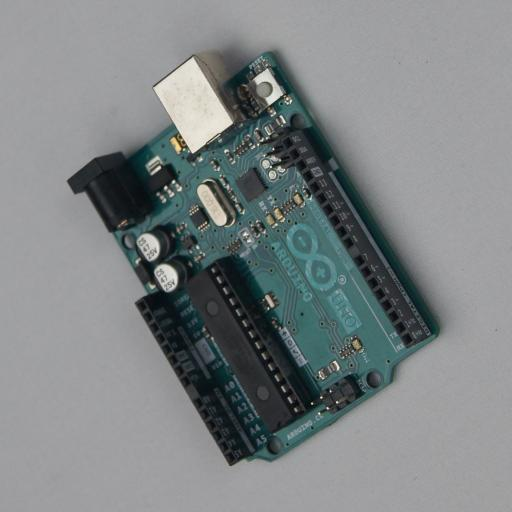Arduino Uno -Green-: (67, 48, 443, 466)
